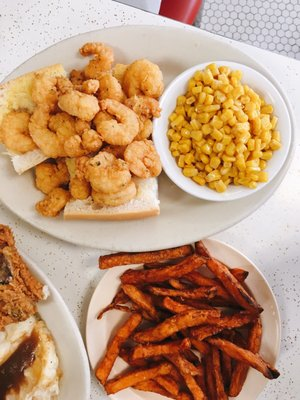sushi: (154, 59, 295, 203)
